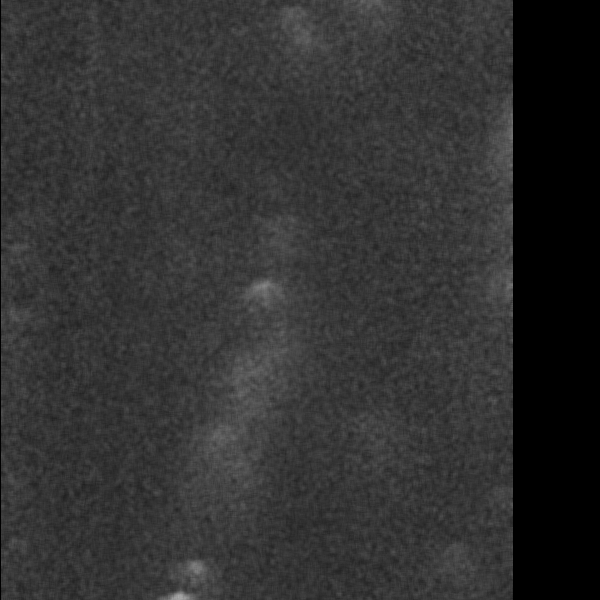spark: (243, 275, 281, 320), (180, 552, 212, 592)
